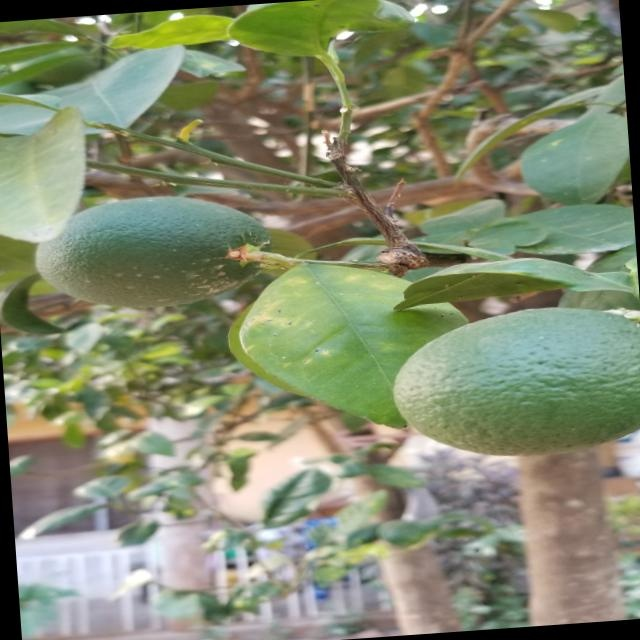agrume: (379, 298, 640, 471), (33, 185, 287, 321)
